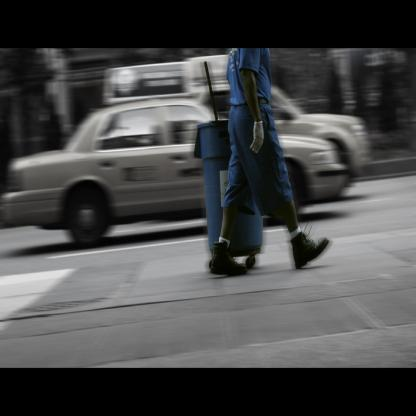Car: (1, 96, 348, 246)
